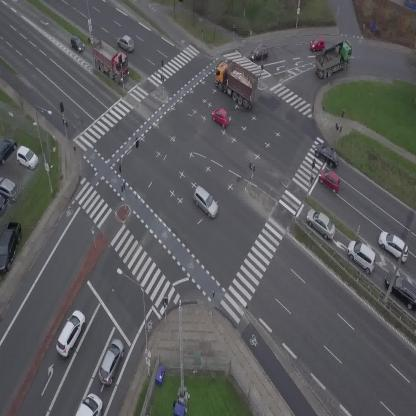car: (51, 308, 90, 358), (94, 336, 128, 387), (341, 236, 383, 275), (374, 227, 414, 266), (302, 205, 341, 242), (187, 184, 223, 220), (311, 140, 343, 169), (315, 166, 345, 193), (208, 104, 234, 129), (115, 32, 138, 55), (66, 33, 87, 55), (250, 46, 269, 61), (309, 37, 326, 52)
lorry: (206, 55, 267, 110), (83, 35, 137, 86), (309, 37, 360, 80), (75, 393, 102, 416)
